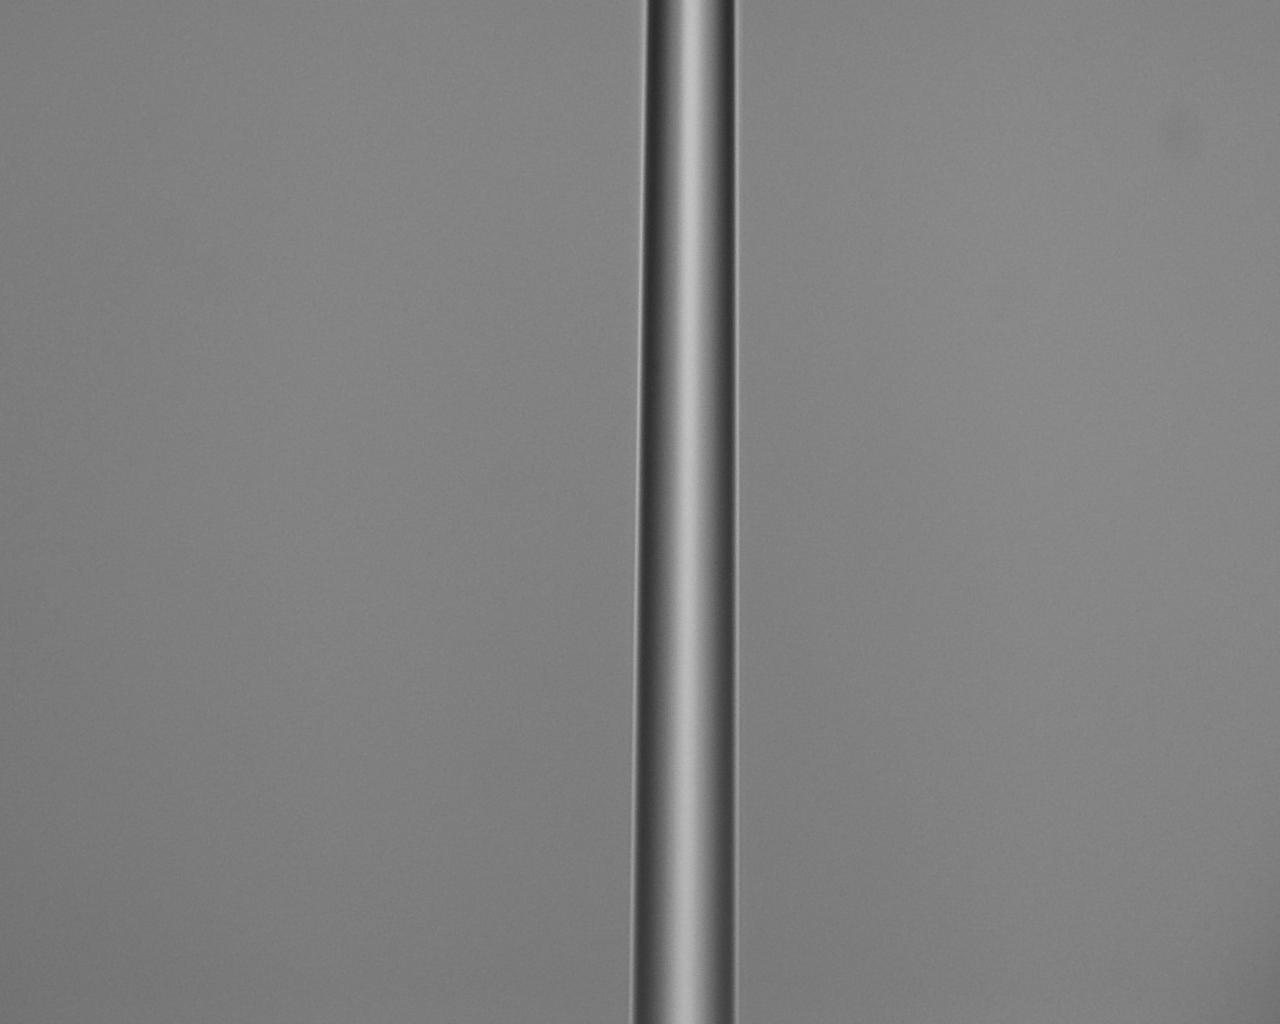fiber: (0, 33, 400, 481), (939, 0, 1280, 481), (665, 673, 1280, 908)
